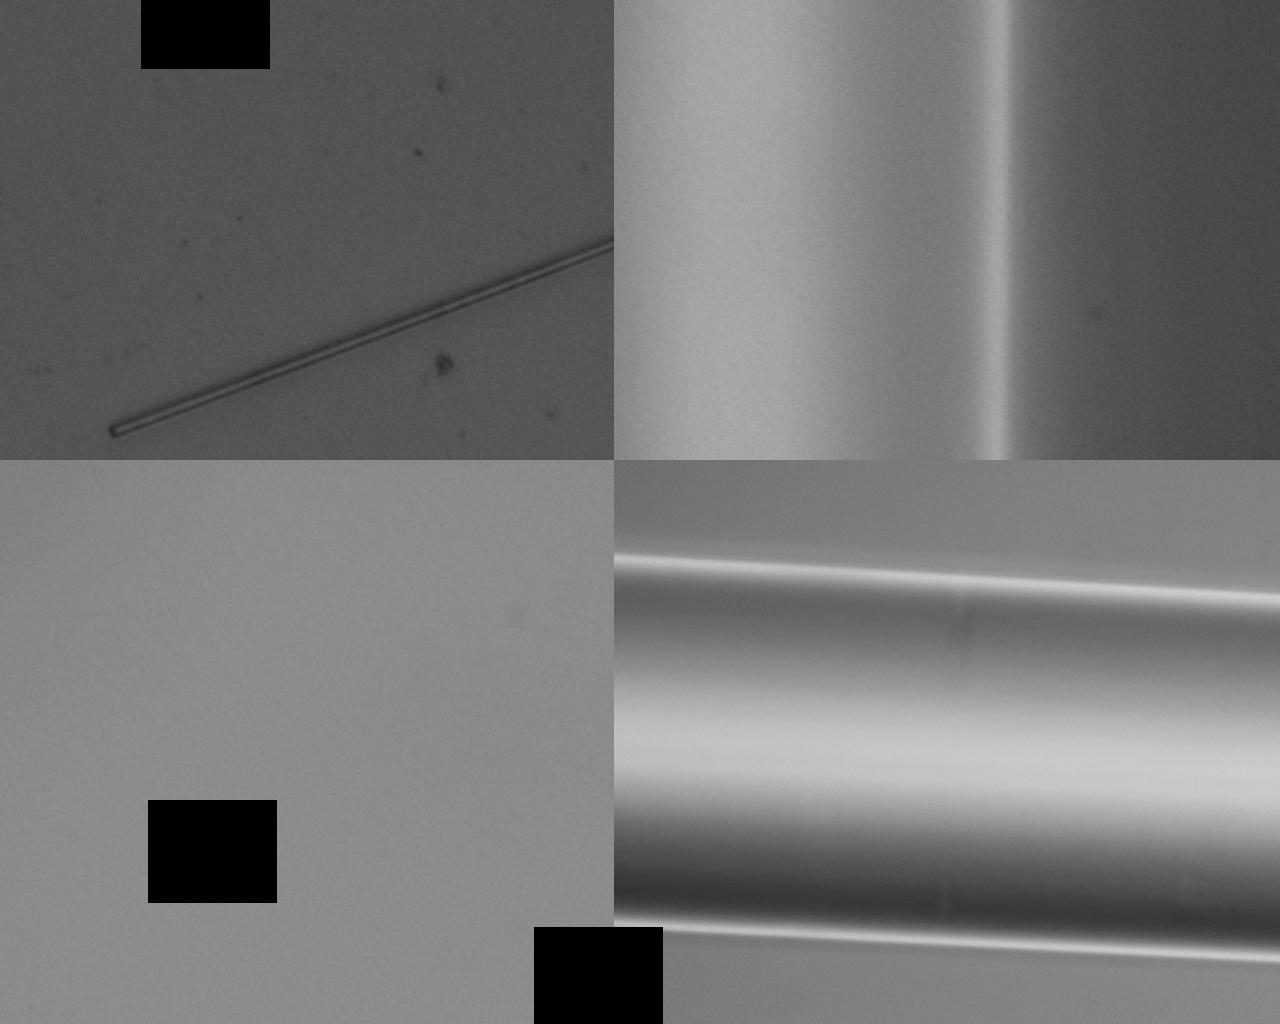fiber: (147, 389, 367, 1024), (400, 0, 548, 389)
